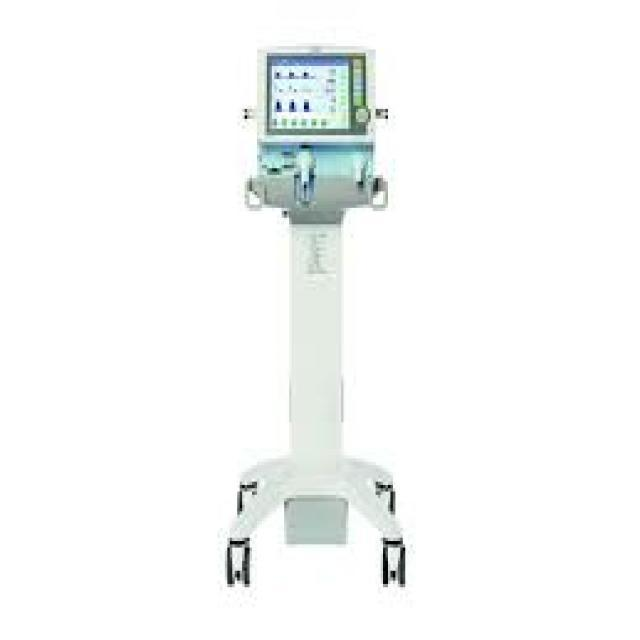ventilator: (182, 55, 475, 640)
